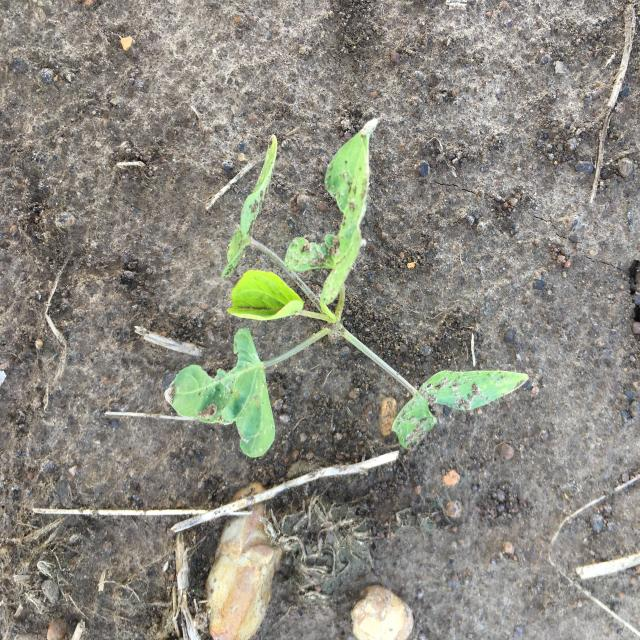MorningGlory: (170, 131, 529, 458)
